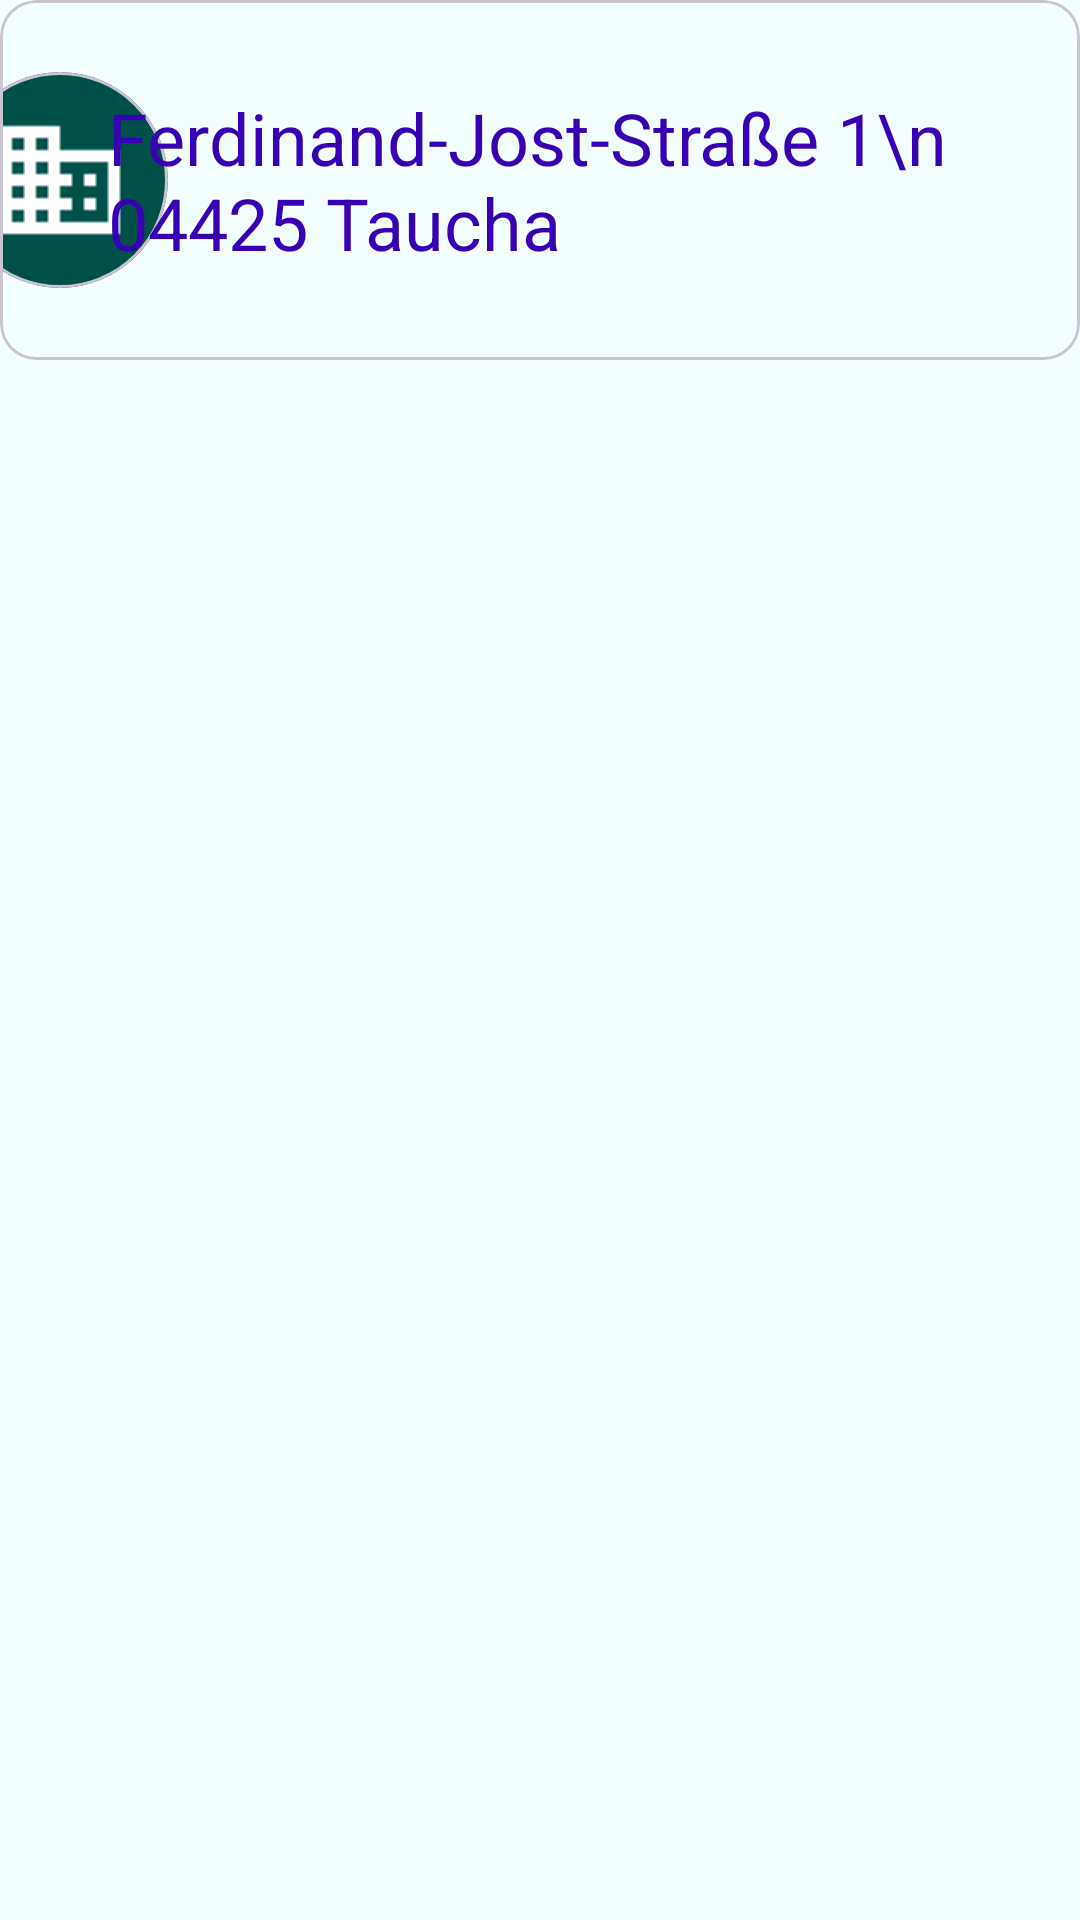

Locate icon controls on the screen. Image size 1080px×1920px, boxes as bbox(x1, y1, x2, y2).
objekte: bbox(0, 108, 132, 252)
